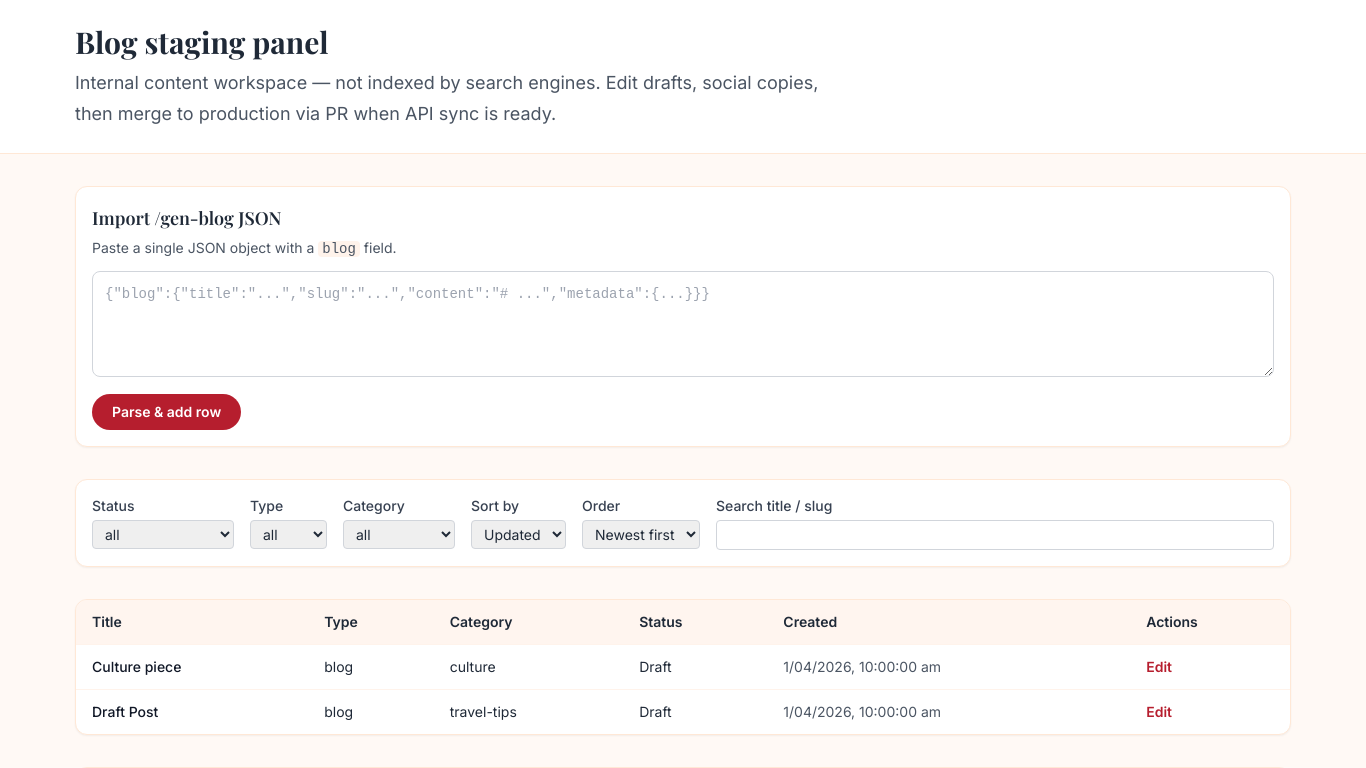
StagingPanel › category filter works
Select "culture" in the dropdown labelled "Category": (399, 535) [343, 520, 455, 549]
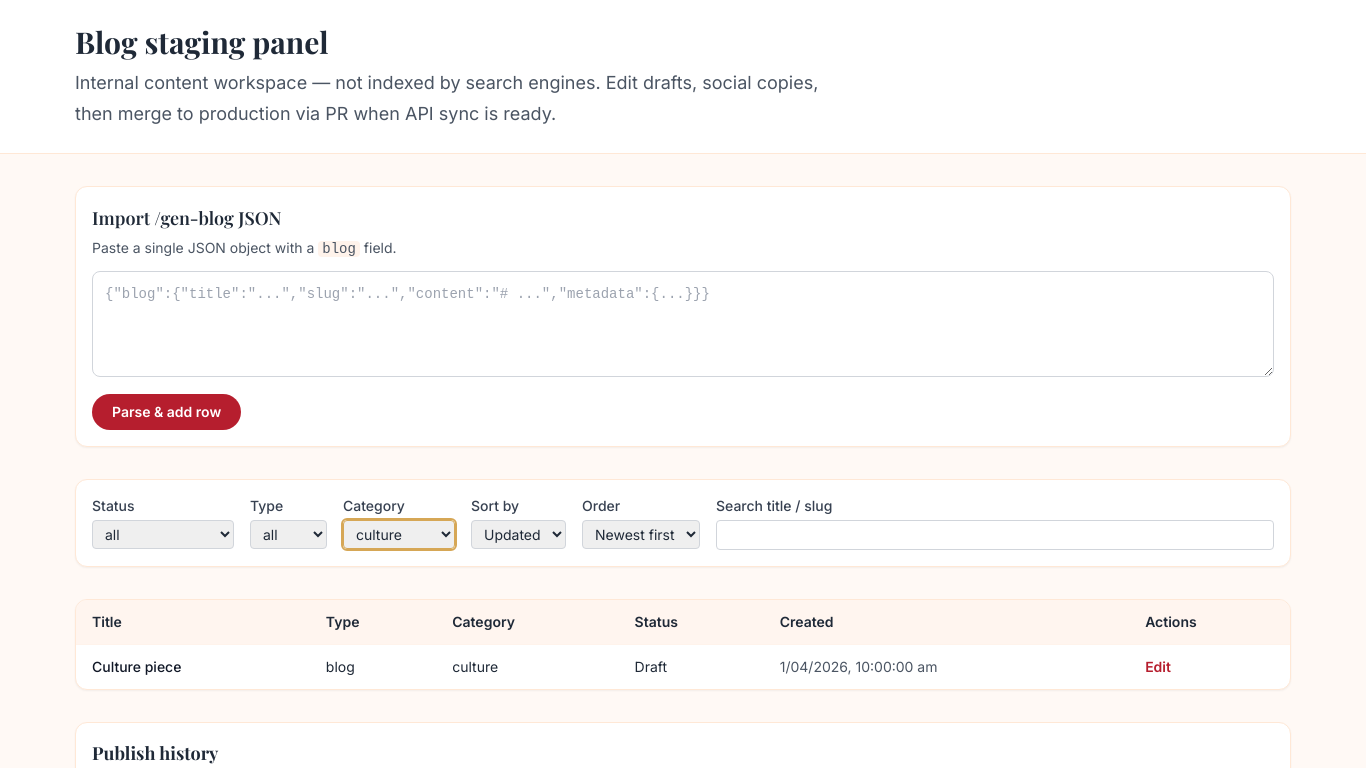
Expected: the text "Culture piece" is shown, [76, 645, 310, 689]
Result: the text "Draft Post" is gone
